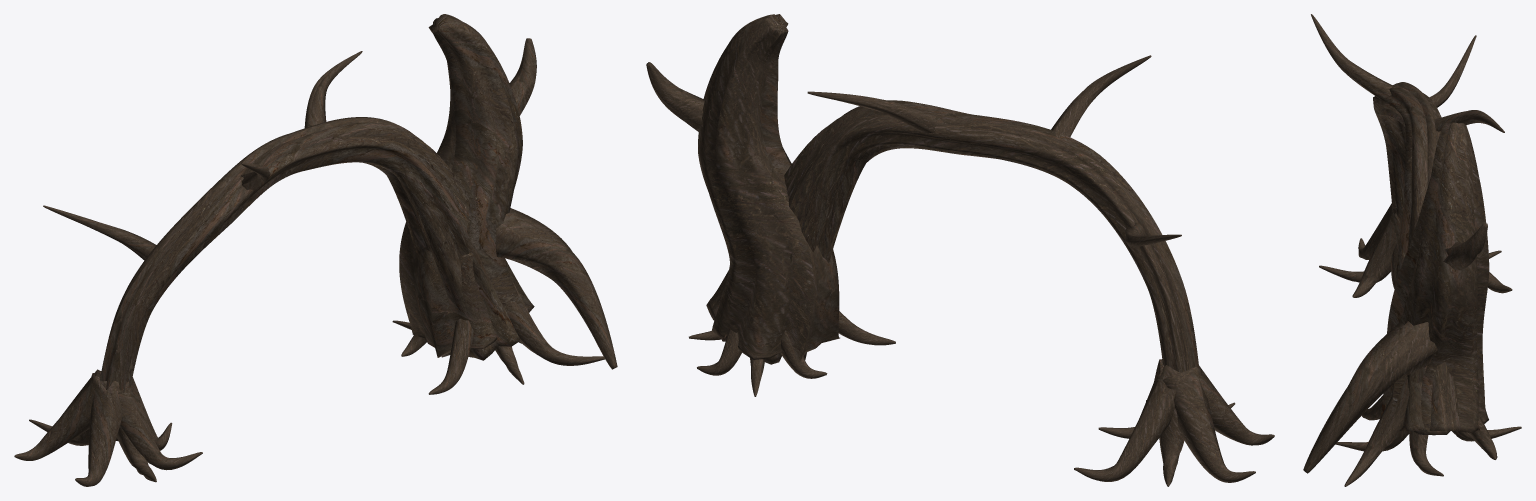
File: wood-arch.glb
3 renders of one model, left to right at view 1: azimuth 30°, elevation 25°; view 2: azimuth 150°, elevation 25°; view 3: azimuth 270°, elevation 25°, orthographic. The views are drawn at different scales.
Parts seen in each view (by area): view 1: Weathered root arch with buttresses · export mesh; view 2: Weathered root arch with buttresses · export mesh; view 3: Weathered root arch with buttresses · export mesh.
Boxes of the visible parts, x1,y1,x2,y2 form: Weathered root arch with buttresses · export mesh: (14,14,617,486); Weathered root arch with buttresses · export mesh: (646,14,1274,486); Weathered root arch with buttresses · export mesh: (1303,14,1521,486).
Bounding box in the file's own units: 0.4299 × 0.2538 × 0.1541.
Materials: 1 (1 with a texture image).
